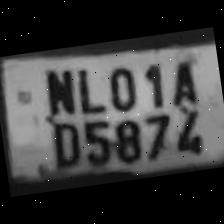0: (99, 58, 140, 112)
1: (134, 58, 168, 110)
4: (165, 100, 207, 158)
5: (76, 113, 114, 168)
7: (136, 108, 174, 162)
8: (108, 113, 144, 166)
A: (162, 55, 202, 109)
D: (42, 116, 84, 170)
L: (68, 61, 105, 116)
N: (36, 63, 78, 118)
